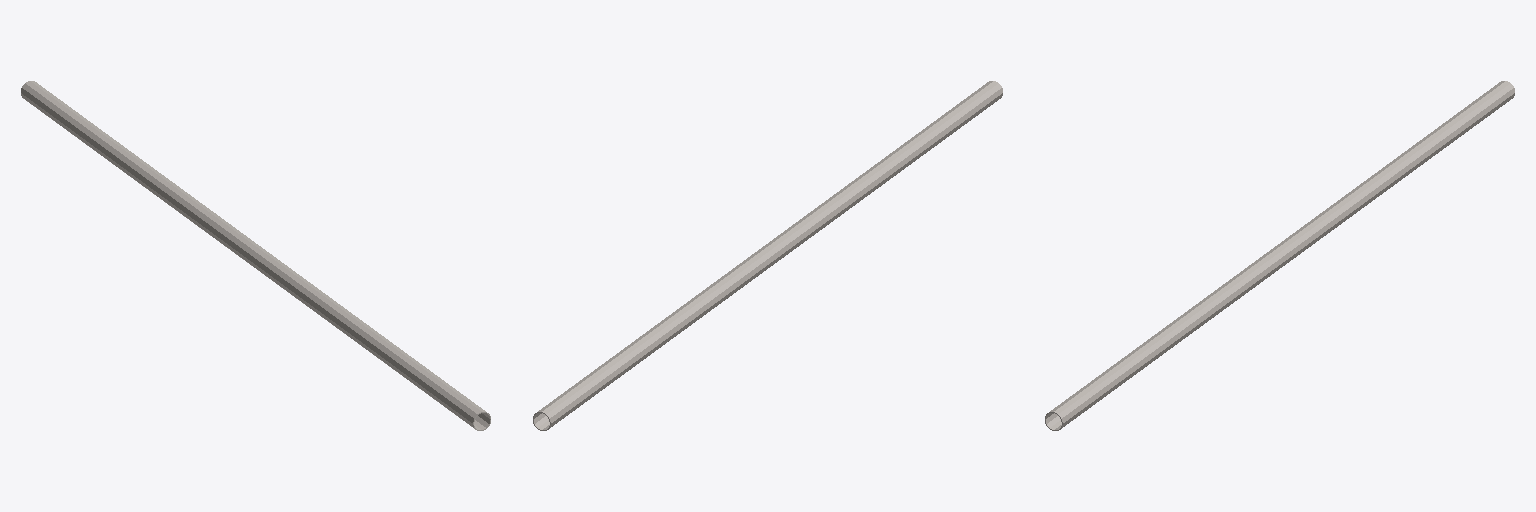
The robot description file, URDF, robot "urdf3":
<?xml version="1.0" encoding="utf-8"?>
<!-- This URDF was automatically created by SolidWorks to URDF Exporter! Originally created by [author] ([email redacted]) 
     Commit Version: 1.6.0-1-g15f4949  Build Version: 1.6.7594.29634
     For more information, please see http://wiki.ros.org/sw_urdf_exporter -->
<robot
  name="urdf3">
  <link
    name="base_link">
    <inertial>
      <origin
        xyz="-0.312602008611974 -0.786784273110783 0.125911838812879"
        rpy="0 0 0" />
      <mass
        value="0.395746426572705" />
      <inertia
        ixx="0.0238451402923673"
        ixy="-1.871942813432E-19"
        ixz="1.17229200993357E-35"
        iyy="3.58150516048297E-05"
        iyz="1.45785254850306E-18"
        izz="0.0238451402923673" />
    </inertial>
    <visual>
      <origin
        xyz="0 0 0"
        rpy="0 0 0" />
      <geometry>
        <mesh
          filename="package://urdf3/meshes/base_link.STL" />
      </geometry>
      <material
        name="">
        <color
          rgba="0.776470588235294 0.756862745098039 0.737254901960784 1" />
      </material>
    </visual>
    <collision>
      <origin
        xyz="0 0 0"
        rpy="0 0 0" />
      <geometry>
        <mesh
          filename="package://urdf3/meshes/base_link.STL" />
      </geometry>
    </collision>
  </link>
  <link
    name="link2">
    <inertial>
      <origin
        xyz="-3.8858E-16 4.4409E-16 0.24"
        rpy="0 0 0" />
      <mass
        value="0.06635" />
      <inertia
        ixx="0.001278"
        ixy="-5.421E-20"
        ixz="1.669E-18"
        iyy="0.001278"
        iyz="-2.1229E-18"
        izz="8.0948E-06" />
    </inertial>
    <visual>
      <origin
        xyz="0 0 0"
        rpy="0 0 0" />
      <geometry>
        <mesh
          filename="package://urdf3/meshes/link2.STL" />
      </geometry>
      <material
        name="">
        <color
          rgba="0.79216 0.81961 0.93333 1" />
      </material>
    </visual>
    <collision>
      <origin
        xyz="0 0 0"
        rpy="0 0 0" />
      <geometry>
        <mesh
          filename="package://urdf3/meshes/link2.STL" />
      </geometry>
    </collision>
  </link>
  <joint
    name="revolute1"
    type="fixed">
    <origin
      xyz="-0.12116 -1.0353 -0.32519"
      rpy="0.079771 -0.38068 -0.21192" />
    <parent
      link="base_link" />
    <child
      link="link2" />
    <axis
      xyz="0 0 0" />
    <limit
      lower="0"
      upper="0"
      effort="0"
      velocity="0" />
  </joint>
</robot>

--- Render facts (derived) ---
3 views of the same robot in one strip: view 1: azimuth 30°, elevation 25°; view 2: azimuth 150°, elevation 25°; view 3: azimuth 330°, elevation 25° (orthographic).
Robot: urdf3 — 2 links, 1 joints (1 fixed); root link base_link; default pose: all joints at 0.
Links seen in each view (by area): view 1: base_link; view 2: base_link; view 3: base_link.
Link boxes in pixels (x1,y1,x2,y2): base_link: [21, 81, 490, 430]; base_link: [533, 81, 1002, 430]; base_link: [1045, 81, 1514, 430].
Size in the robot's own frame: 0.02 by 0.85 by 0.02 metres.
1 mesh visuals loaded from 2 distinct referenced files (1 binary STL); not drawn: 1 (reference not matched to a file when rendering).